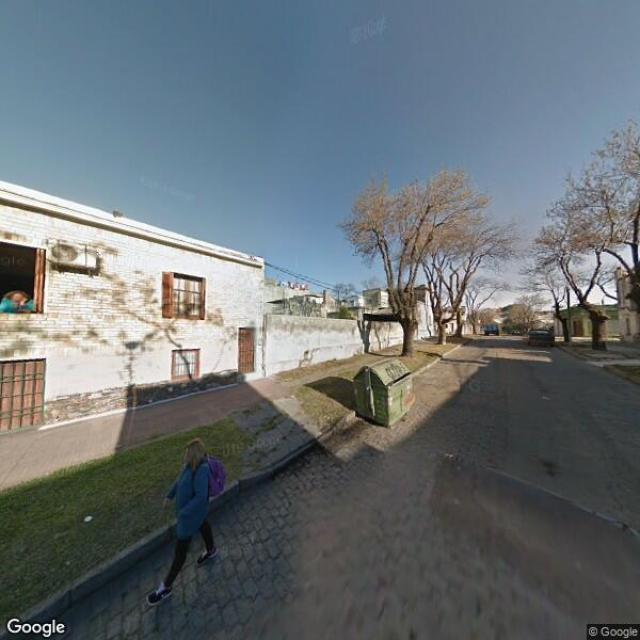garbage container: (346, 352, 424, 432)
